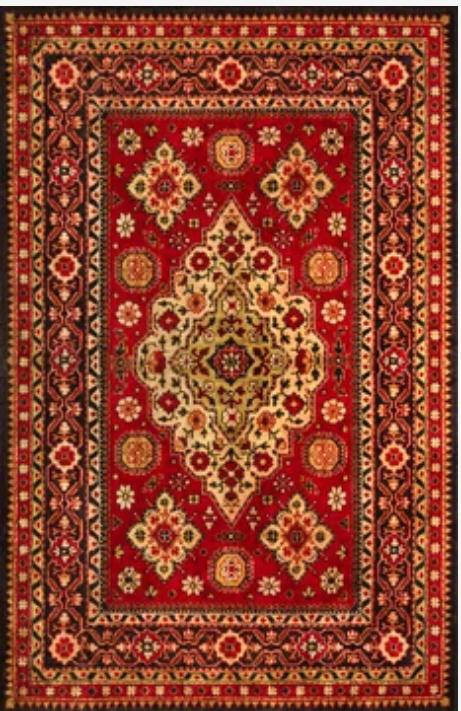carpet: (4, 10, 457, 711)
